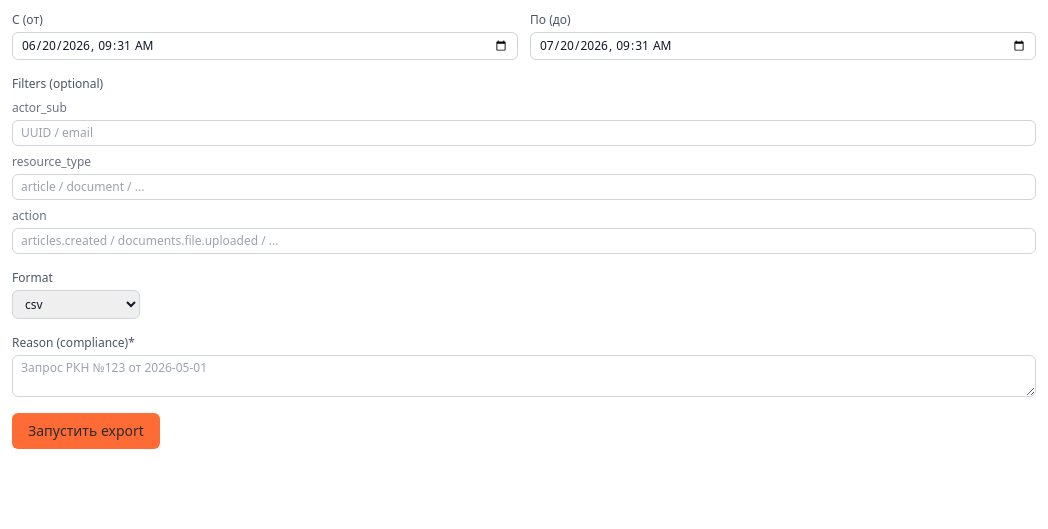
Scenario: AuditExportForm › submits with required + filters when provided
Step 1. Type "Запрос РКН №42" into the text box labelled "Reason" → (524, 376), box [12,355,1036,397]
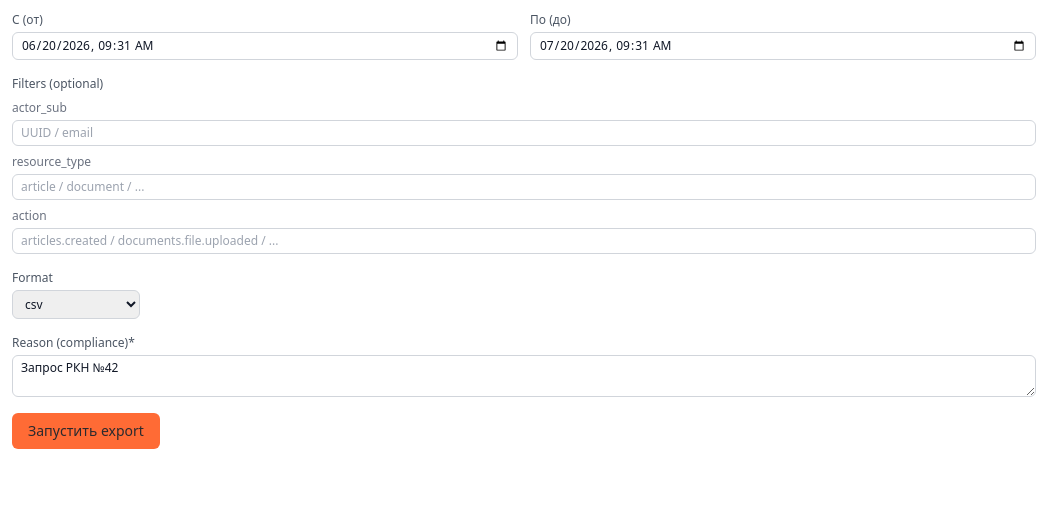
Step 2. Type "user-uuid" into the field labelled "actor_sub" → (524, 133), box [12,120,1036,146]
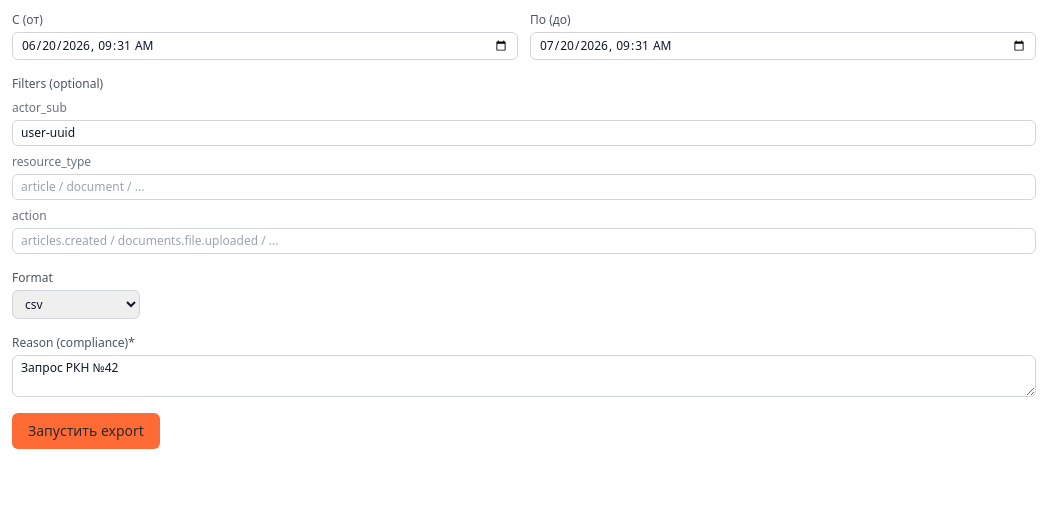
Step 3. Click the button "Запустить export" → (86, 431), box [12,413,160,449]
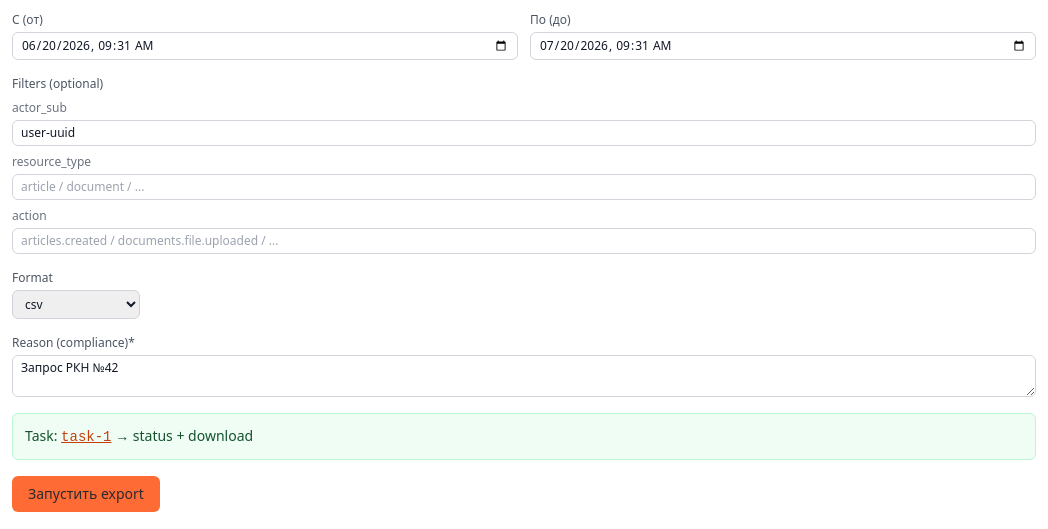
Expected: the message shows "task-1", [61,429,112,445]
